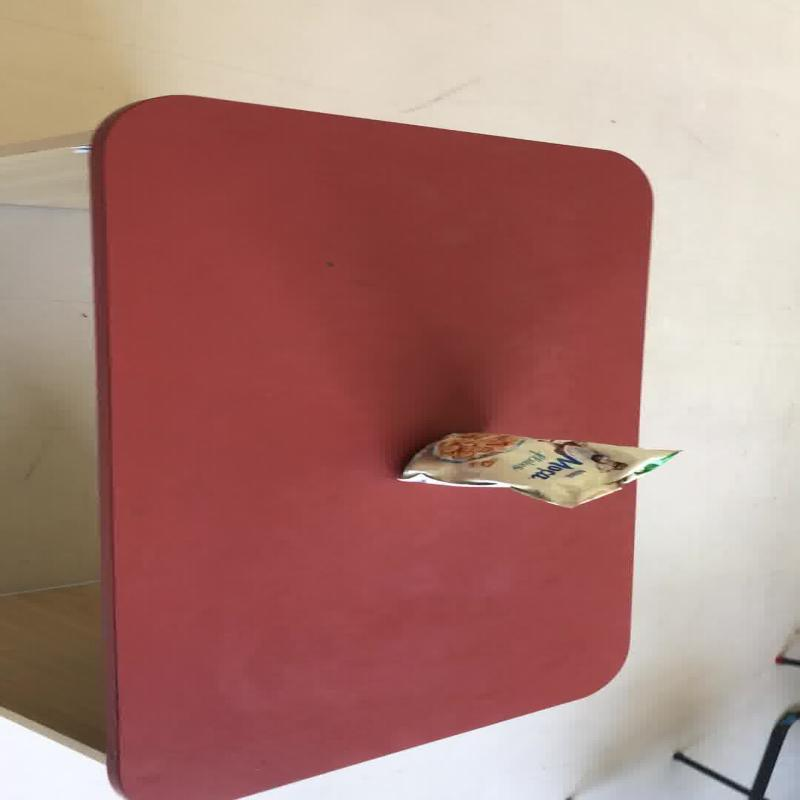corn flakes: (396, 430, 680, 509)
